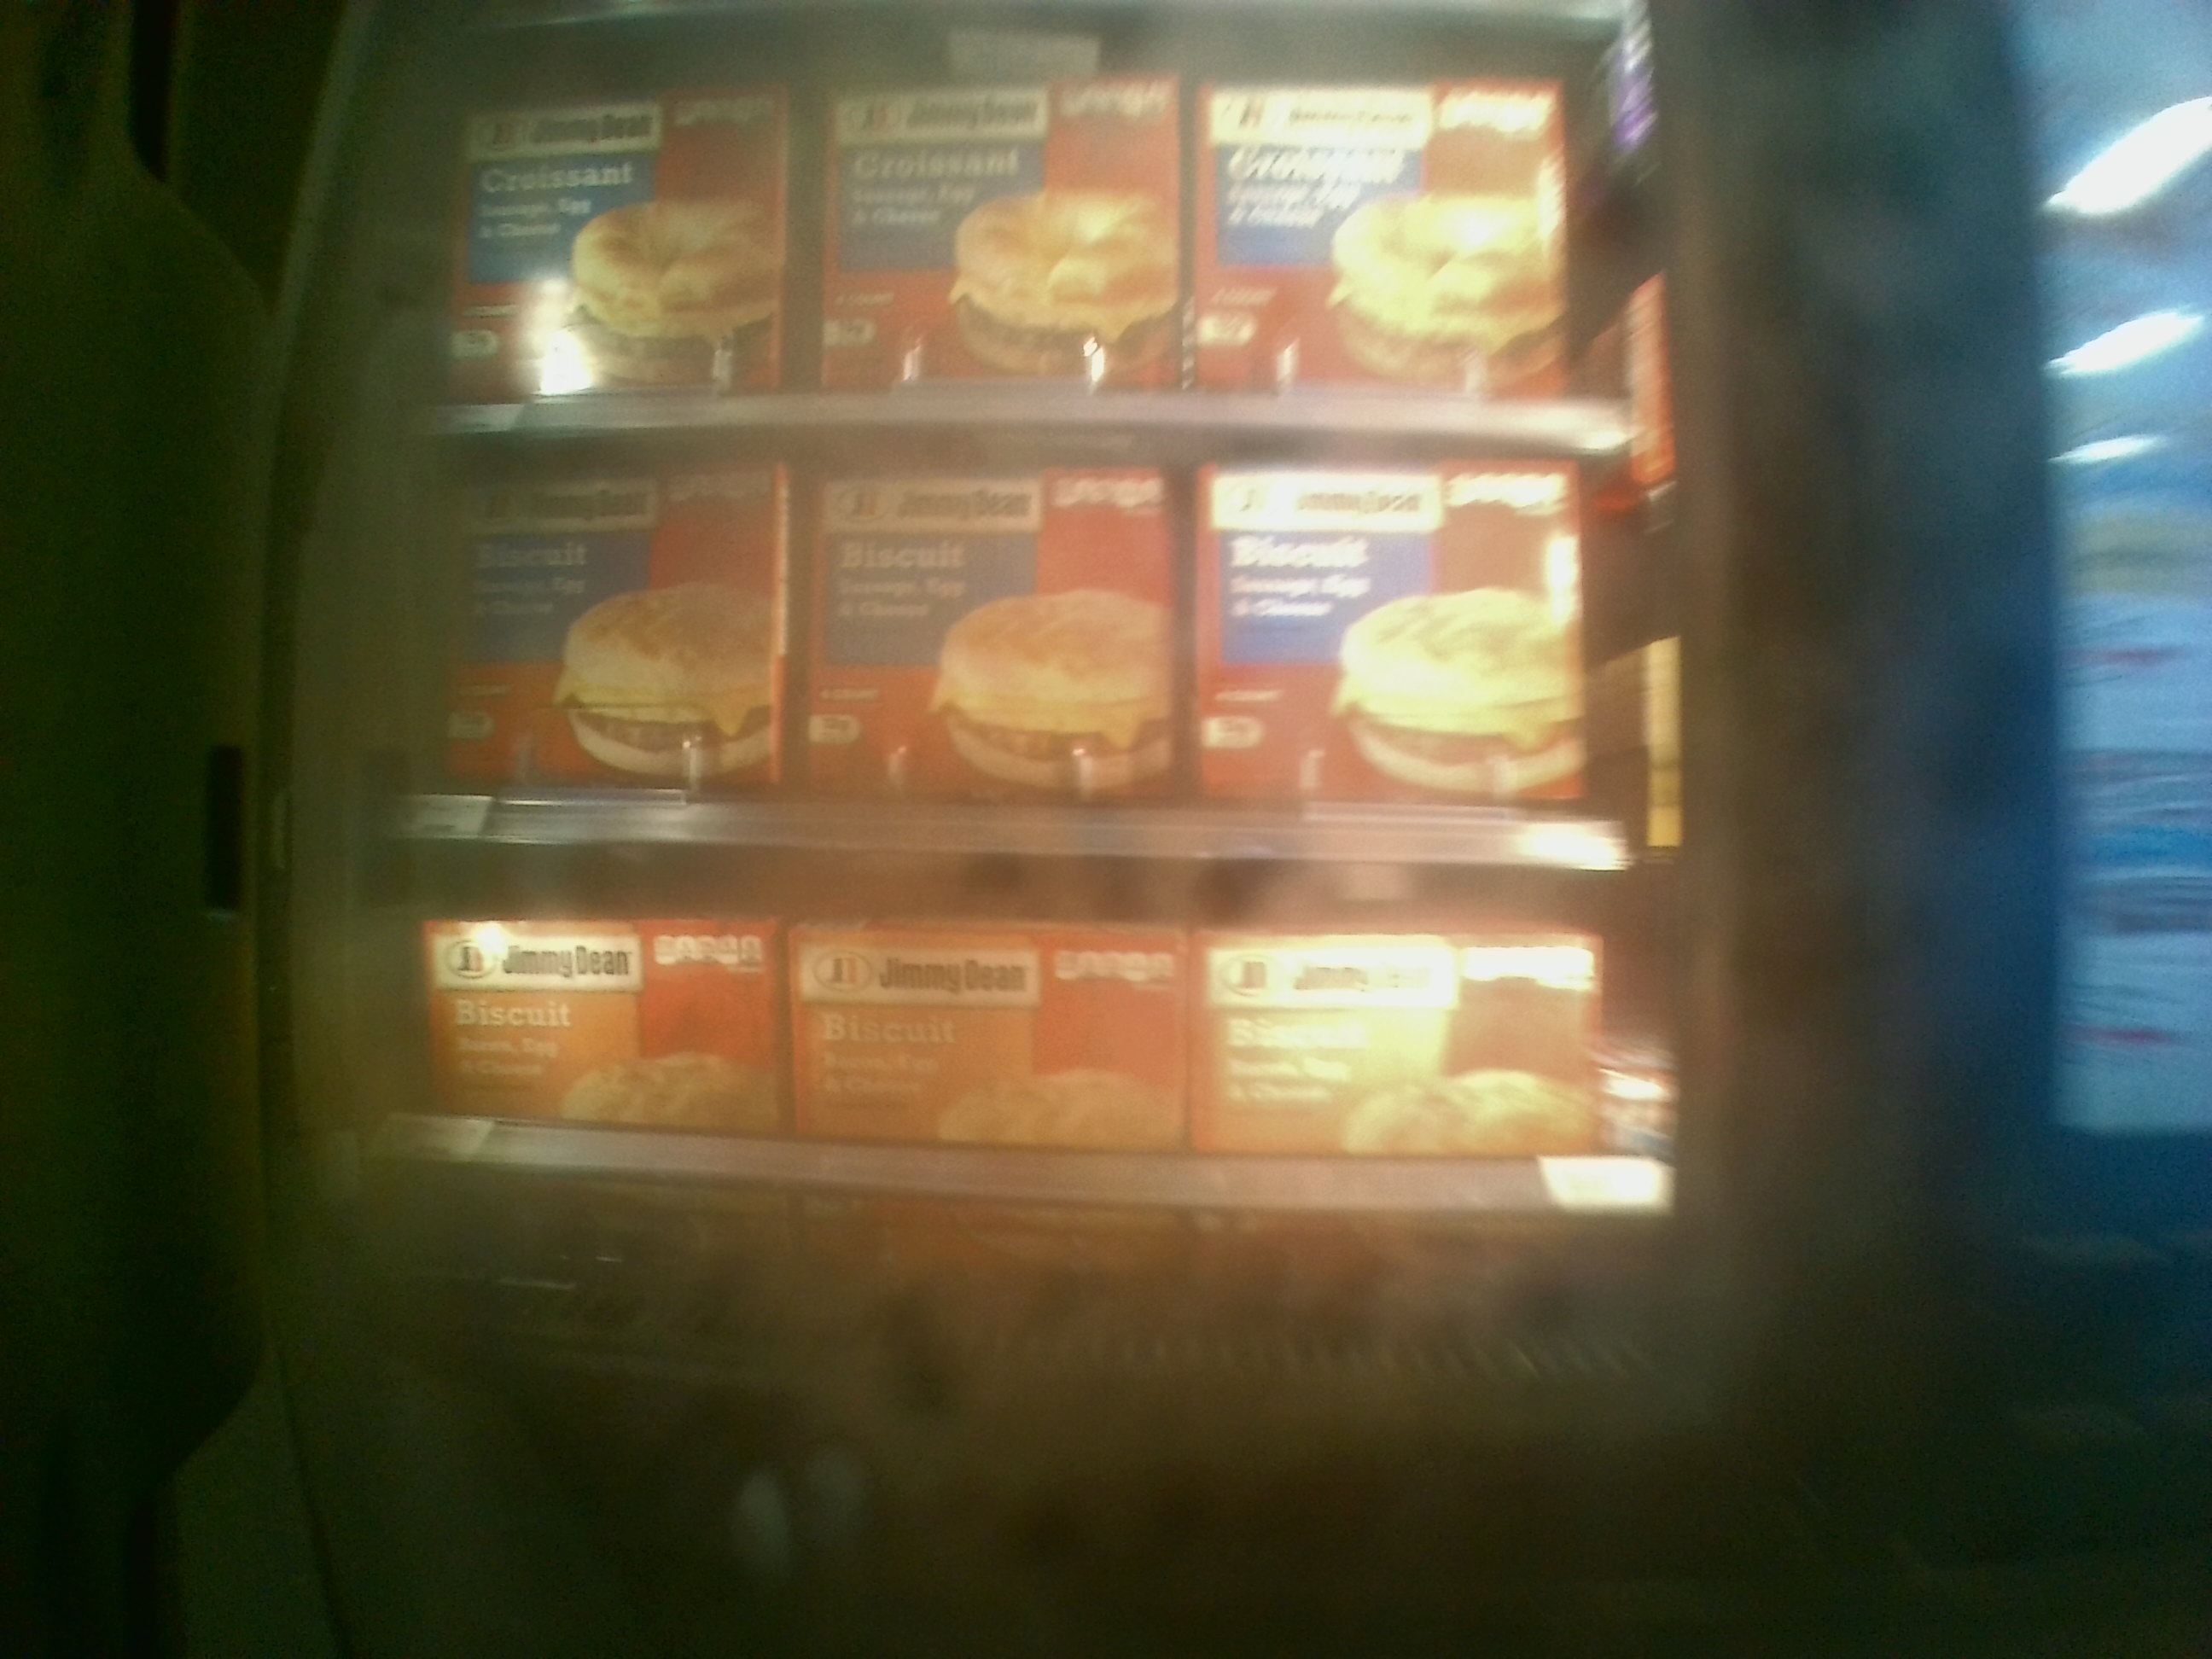shelf: (374, 842, 1674, 1321), (381, 432, 1649, 864)
